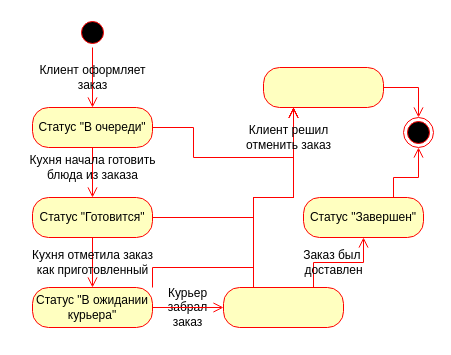
Image size: 451x355. Some labels were removed from this diagram. The centre of each missing label's shape, as x and y in pixels:
Статус "Доставляется": (283,307)
Статус "Отменен": (323,87)
